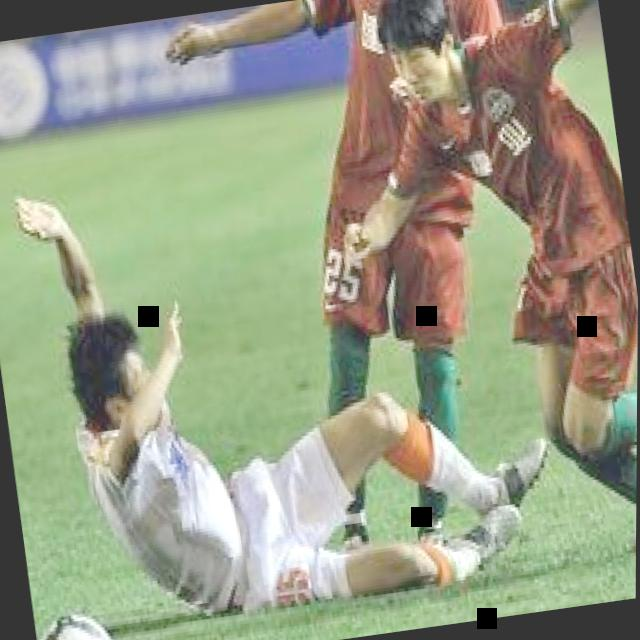Fall-Detected: (8, 101, 576, 640)
